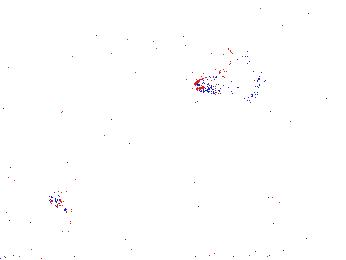flame jellyfish: (217, 167, 290, 221), (194, 55, 267, 102), (46, 163, 100, 216)
